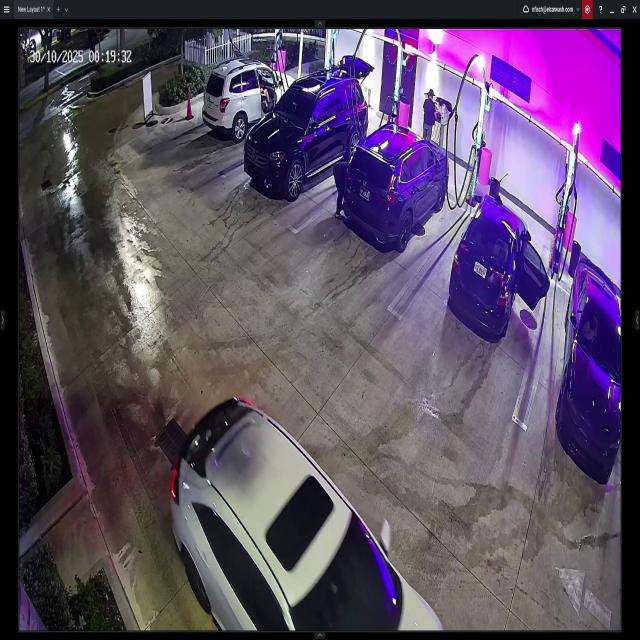Car: (170, 417, 438, 640), (447, 176, 549, 340), (251, 52, 367, 192), (332, 114, 450, 245), (559, 262, 618, 482), (198, 62, 304, 151)
